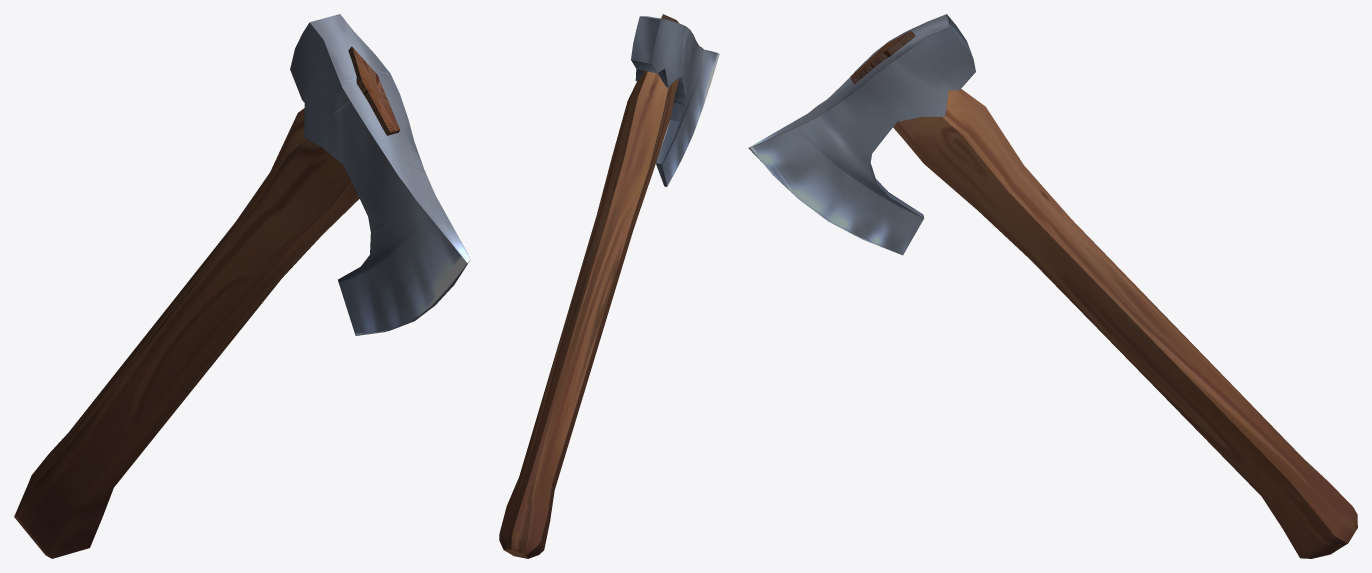
Rendered from strongman_Base_axe.fbx.
3 renders of one model, left to right at view 1: azimuth 30°, elevation 25°; view 2: azimuth 150°, elevation 25°; view 3: azimuth 270°, elevation 25°, orthographic. The views are drawn at different scales.
Visible parts, largest first — view 1: Axe:pCube2; view 2: Axe:pCube2; view 3: Axe:pCube2.
Part boxes in pixels (left/top/right/bottom): Axe:pCube2: left=14, top=14, right=470, bottom=558; Axe:pCube2: left=499, top=14, right=719, bottom=558; Axe:pCube2: left=748, top=14, right=1357, bottom=558.
Bounding box in the file's own units: 1.02 × 7.18 × 7.06.
Materials: 1 (1 with a texture image).
